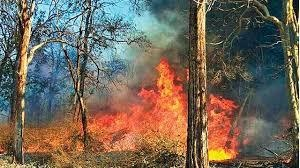fire: (80, 57, 191, 152), (205, 92, 243, 160)
